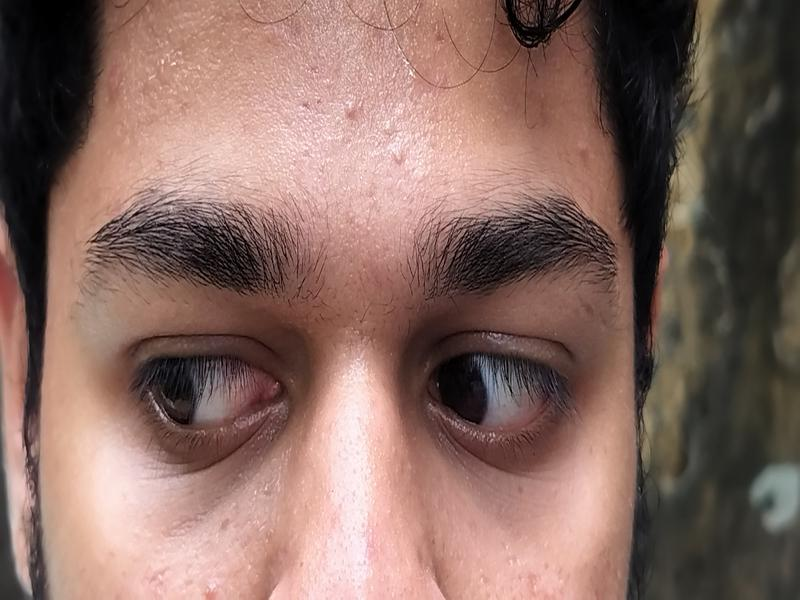EYE RIGHT: (148, 352, 276, 428), (437, 351, 552, 425)
